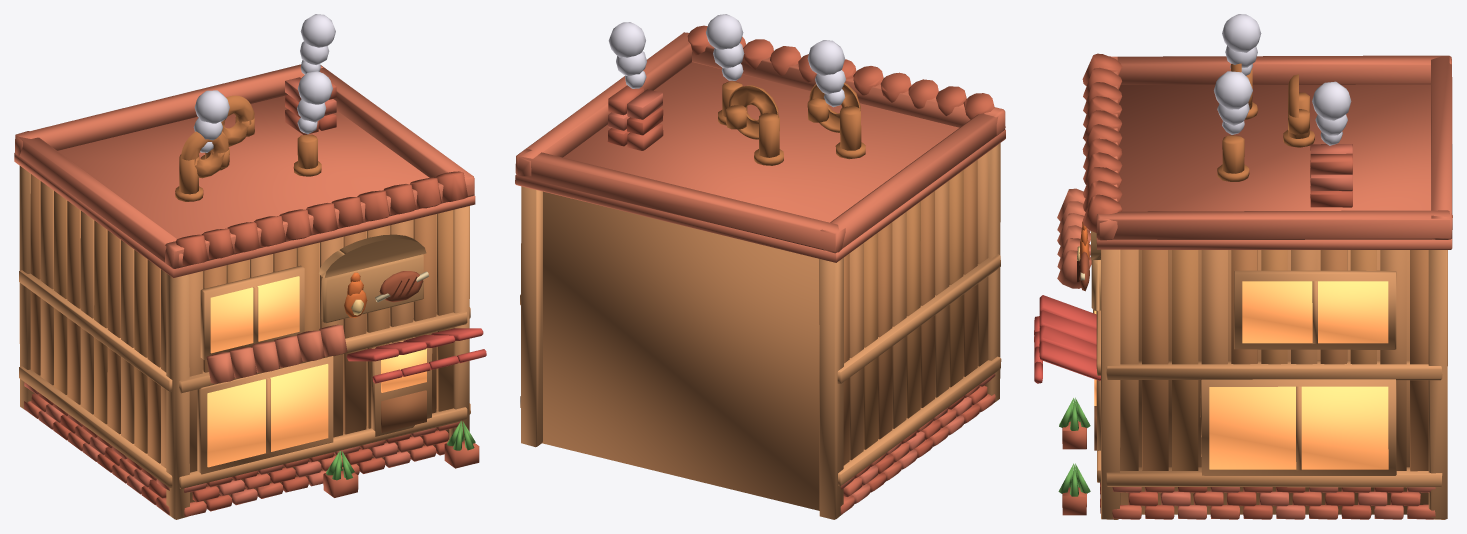
Rendered from yakiniku.glb.
The picture shows the model from 3 angles, left to right: view 1: azimuth 30°, elevation 25°; view 2: azimuth 150°, elevation 25°; view 3: azimuth 270°, elevation 25°; orthographic projection. The views are drawn at different scales.
Parts seen in each view (by area): view 1: yakiniku; view 2: yakiniku; view 3: yakiniku.
Part boxes in pixels (x1,y1,x2,y2): yakiniku: [14, 14, 486, 519]; yakiniku: [515, 14, 1005, 519]; yakiniku: [1034, 14, 1452, 519].
Bounding box in the file's own units: 2.39 × 2.77 × 2.56.
